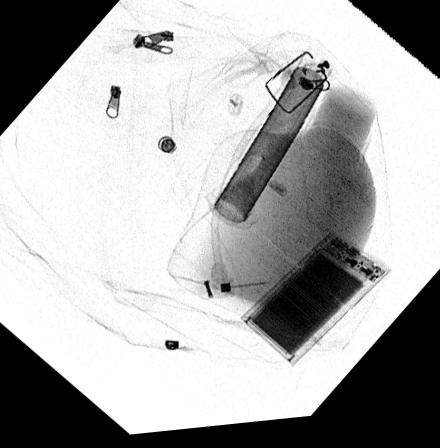Powerbank: (240, 238, 390, 372)
